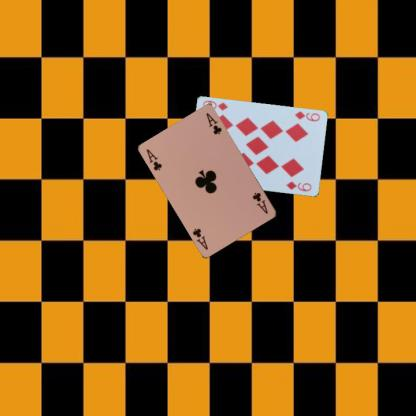9d: (292, 109, 321, 123)
Ac: (250, 190, 269, 216), (144, 146, 163, 172)
